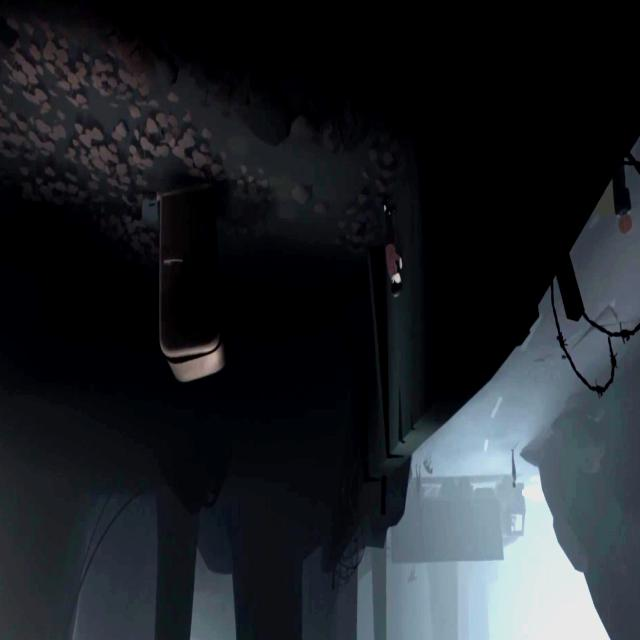boy: (382, 200, 403, 297)
human: (415, 464, 421, 498), (511, 449, 516, 488)
